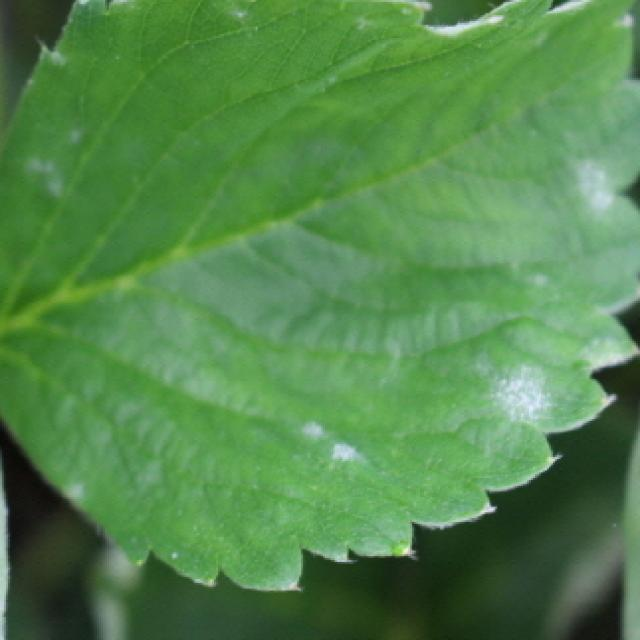Powdery Mildew Leaf: (0, 0, 640, 594)
